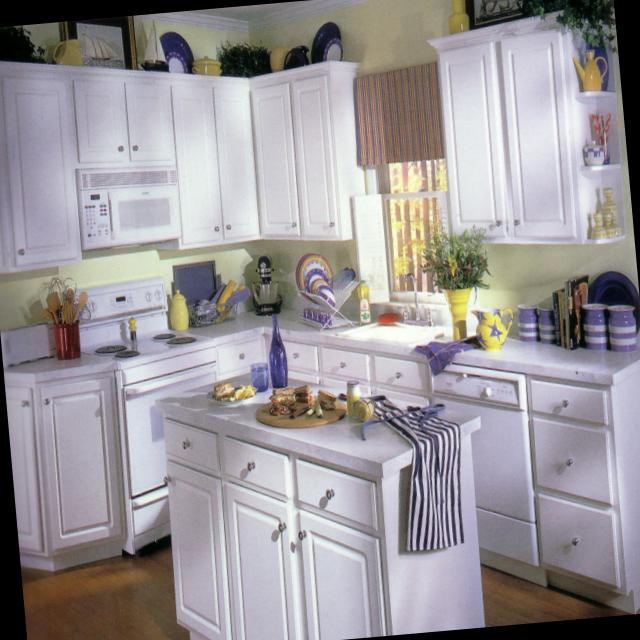2001: (381, 160, 451, 288)
2021: (48, 272, 65, 306)
apron: (362, 397, 465, 549)
basket of vegtables: (188, 277, 251, 328)
books crop: (552, 273, 589, 350)
bottle crop: (268, 311, 287, 388)
bowl -X: (254, 280, 277, 311), (582, 137, 604, 165), (320, 286, 335, 304), (379, 310, 396, 324)
cabinets: (0, 61, 365, 273), (162, 412, 484, 640), (425, 10, 626, 245), (482, 369, 640, 612), (4, 371, 127, 569)
ceiling beam: (183, 0, 311, 21)
chips: (236, 384, 253, 397)
counter: (178, 305, 640, 385), (156, 370, 481, 476), (4, 352, 115, 382)
cups: (590, 188, 622, 237), (303, 304, 332, 325)
cutting board with vegetables: (254, 393, 347, 429)
dish soap: (294, 259, 362, 328)
dishtowel: (415, 331, 481, 373)
dishwasher: (428, 363, 539, 564)
drawers crop: (162, 417, 377, 533)
faucet handle: (396, 268, 435, 323)
floor lamp -lamp: (22, 532, 189, 640), (483, 563, 640, 625)
flowers in pot: (420, 219, 491, 339)
glass ceiling: (250, 361, 269, 392)
glasses -X: (329, 263, 357, 297)
jar -X: (609, 302, 636, 351), (583, 302, 609, 348), (517, 304, 538, 339), (170, 292, 189, 328), (540, 308, 554, 341)
jar of cotton balls: (36, 283, 88, 357)
knives: (289, 401, 312, 418)
mayonnaise: (347, 380, 362, 417)
microwave oven: (81, 161, 181, 246)
mixer: (250, 255, 281, 313)
mustard: (355, 397, 374, 419)
painting crop: (59, 15, 139, 70), (463, 0, 522, 29)
pepper: (127, 314, 138, 344)
pickles: (305, 397, 327, 417)
pitcher: (471, 306, 513, 350), (572, 49, 608, 90), (52, 38, 82, 65), (283, 43, 310, 69)
plant -x: (513, 0, 616, 51), (218, 43, 271, 76), (0, 25, 46, 61)
plate food: (587, 269, 640, 333), (311, 19, 341, 62), (323, 37, 343, 61)
plate of fruit: (209, 380, 259, 401)
plates: (296, 250, 333, 293), (160, 31, 193, 70)
pot hanger: (191, 51, 221, 75)
roman shade: (354, 59, 445, 165)
sailboat: (141, 18, 168, 71)
sandwich: (212, 383, 232, 396)
sandwiches: (266, 385, 339, 415)
shudder: (352, 194, 390, 304)
sink basin: (337, 320, 446, 344)
soap bottle: (360, 279, 371, 325)
stove burner: (74, 275, 216, 554)
toaster oven: (1, 321, 54, 365)
tray occluded: (170, 258, 222, 304)
twizlers in a cup: (590, 111, 611, 162)
vase -X: (588, 38, 608, 90), (447, 0, 470, 30), (270, 43, 291, 72)
